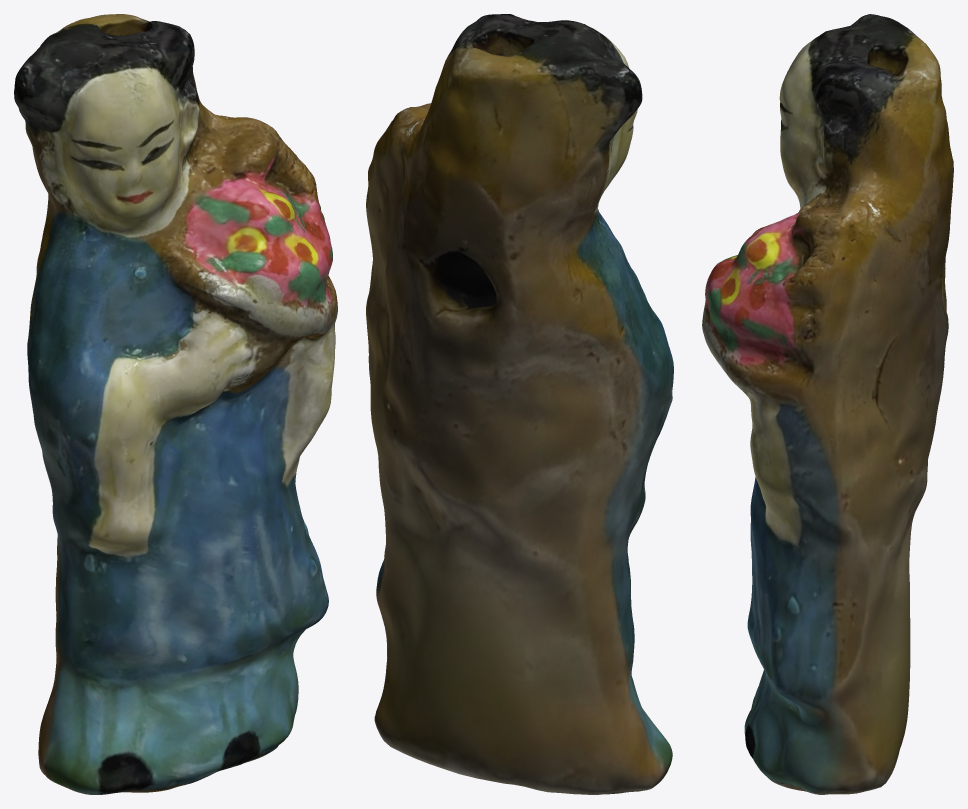
The picture shows the model from 3 angles, left to right: view 1: azimuth 30°, elevation 25°; view 2: azimuth 150°, elevation 25°; view 3: azimuth 270°, elevation 25°; orthographic projection. The views are drawn at different scales.
Bounding box in the file's own units: 0.2858 × 0.696 × 0.2268.
Materials: 1 (1 with a texture image).
